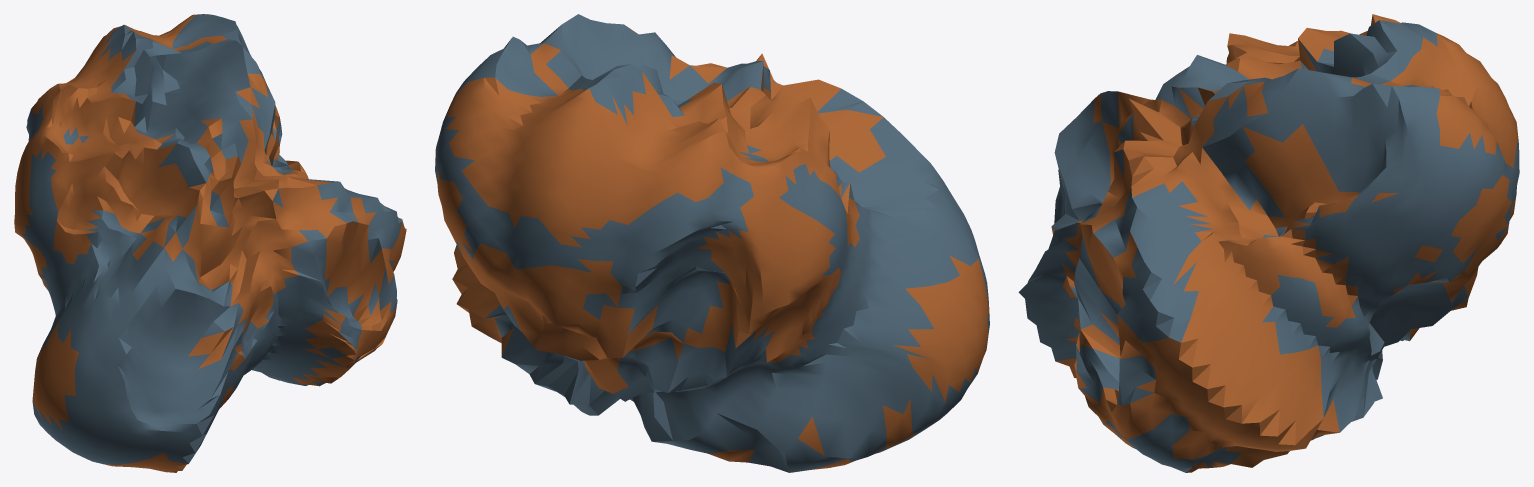
The model's file is huge-metallic-asteroid.glb.
3 views of the same model, side by side, from view 1: azimuth 30°, elevation 25°; view 2: azimuth 150°, elevation 25°; view 3: azimuth 270°, elevation 25° (orthographic). The views are drawn at different scales.
Visible parts, largest first — view 1: body; view 2: body; view 3: body.
Boxes of the visible parts, box(x1,y1,x2,y2) form: body: box(14, 14, 406, 472); body: box(435, 14, 989, 472); body: box(1018, 14, 1519, 472).
Bounding box in the file's own units: 10.69 × 9.24 × 9.76.
